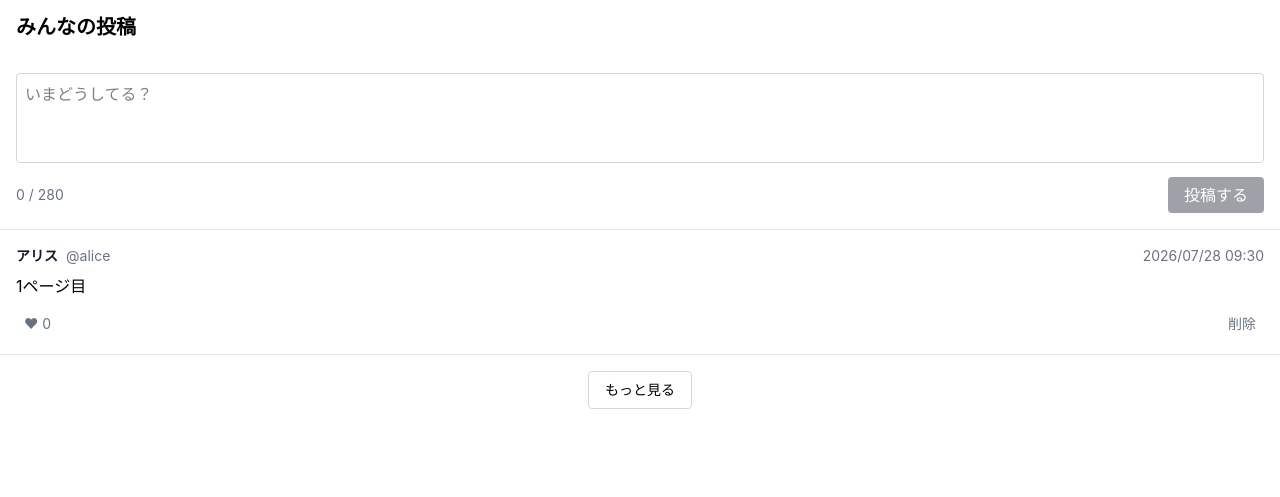
Test: PublicTimelinePage › カーソルをたどって次ページを読み込む
Check: the link "1ページ目" is shown, box 16,276 -> 86,296
Click the button "もっと見る". click: click(640, 390)
box: 588,371 -> 692,409
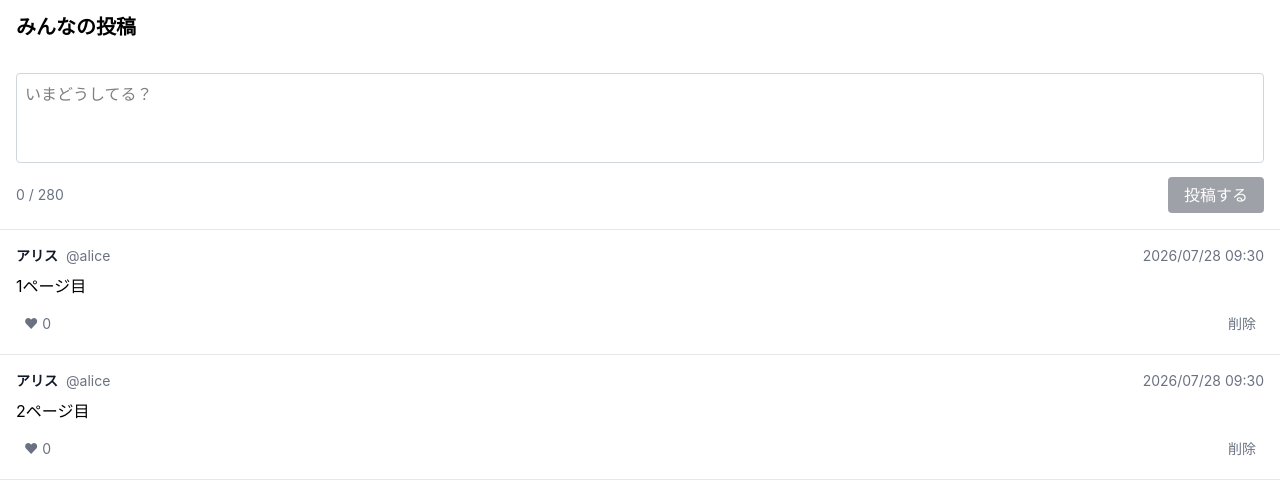
Check: the link "2ページ目" is shown, box 16,401 -> 90,421
Check: the button "もっと見る" is gone
